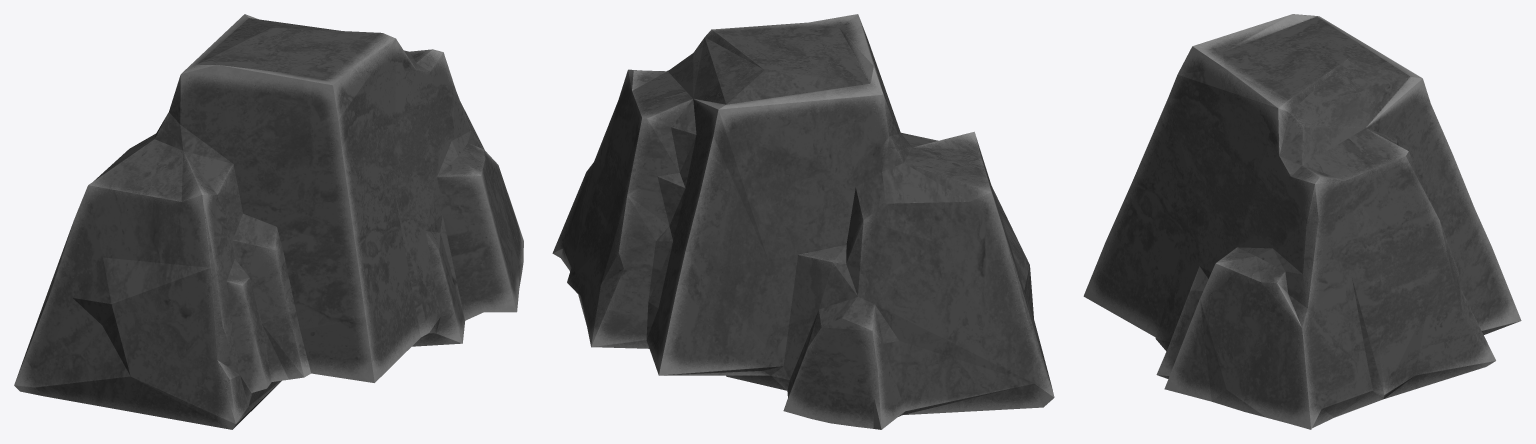
File: ROCK A.fbx
The picture shows the model from 3 angles, left to right: view 1: azimuth 30°, elevation 25°; view 2: azimuth 150°, elevation 25°; view 3: azimuth 270°, elevation 25°; orthographic projection.
Parts seen in each view (by area): view 1: ROCK A; view 2: ROCK A; view 3: ROCK A.
Boxes of the visible parts, x1,y1,x2,y2 form: ROCK A: [14, 14, 523, 429]; ROCK A: [552, 14, 1054, 429]; ROCK A: [1083, 14, 1521, 429].
Bounding box in the file's own units: 3.26 × 1.78 × 2.42.
